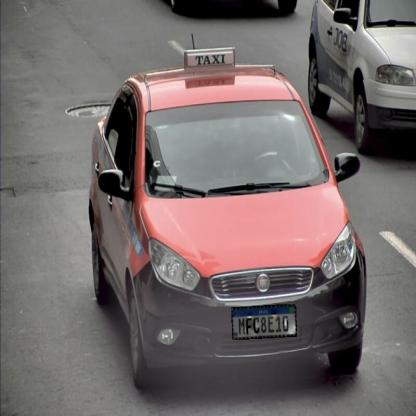PlacaM: (231, 304, 297, 340)
